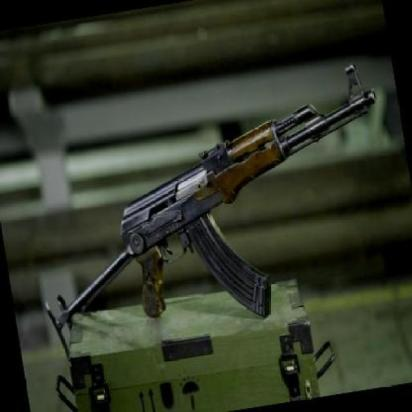Gun: (44, 65, 404, 350)
